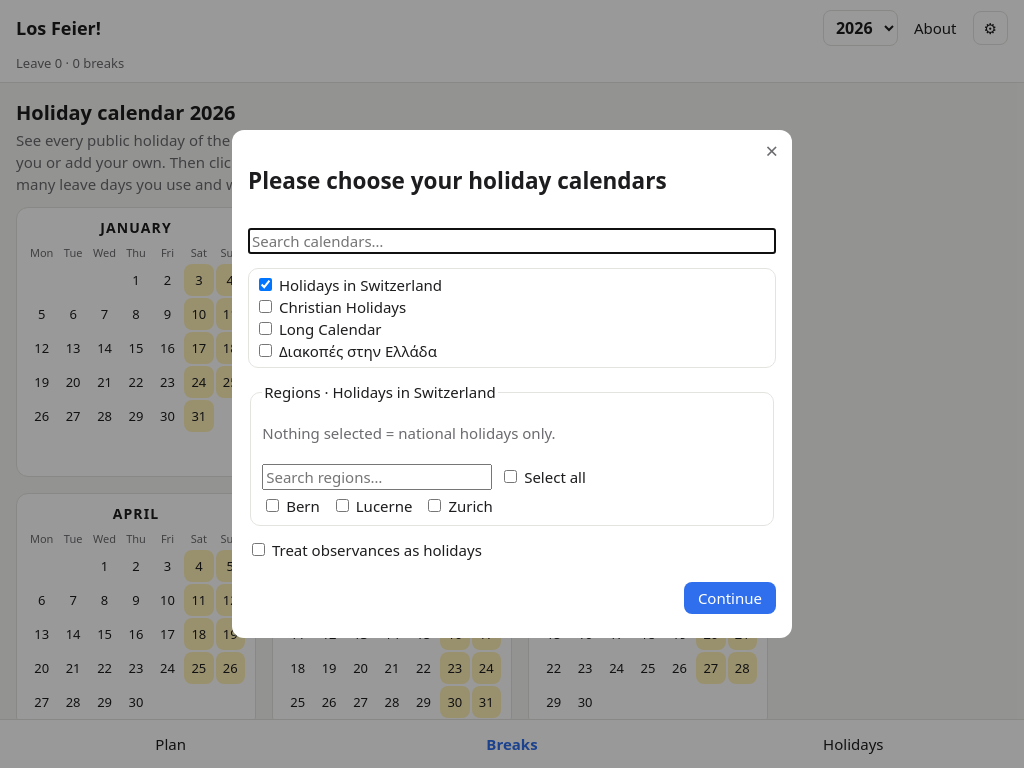
it: App › first run asks for calendars with the browser-language suggestion checked
This screenshot has width=1024, height=768.
Check: the checkbox labelled "Holidays in Switzerland" is checked, box [259,278,272,291]
Click the button "Continue" at [730, 598], box [684,582,776,614]
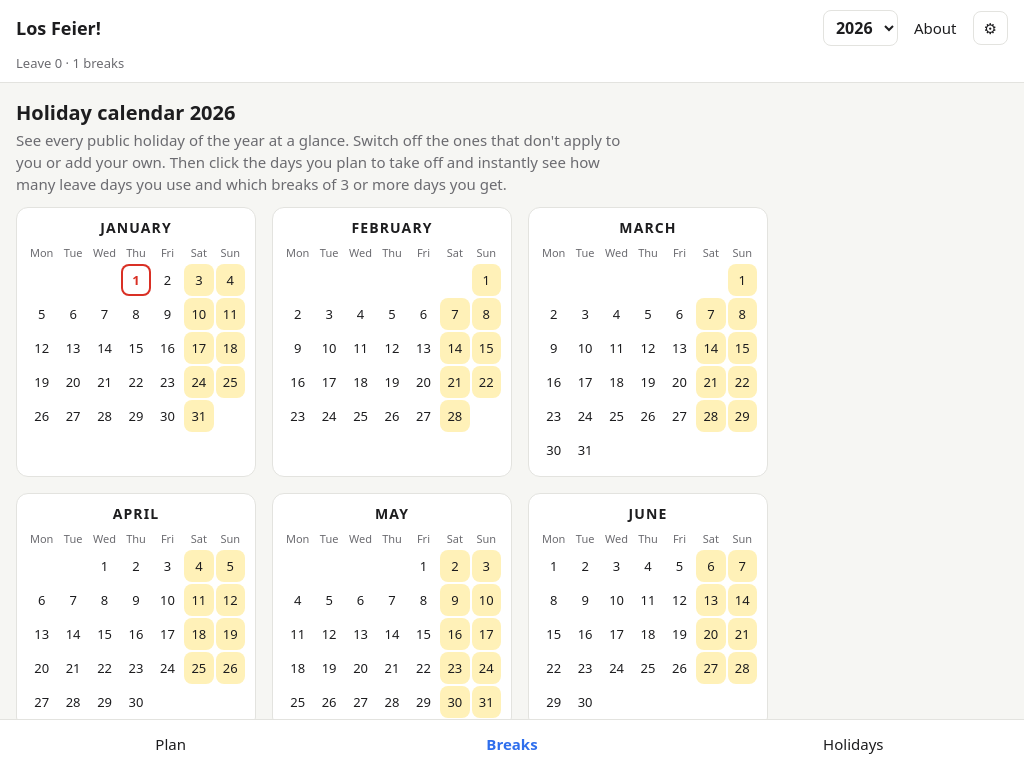
Check: the dialog is gone
